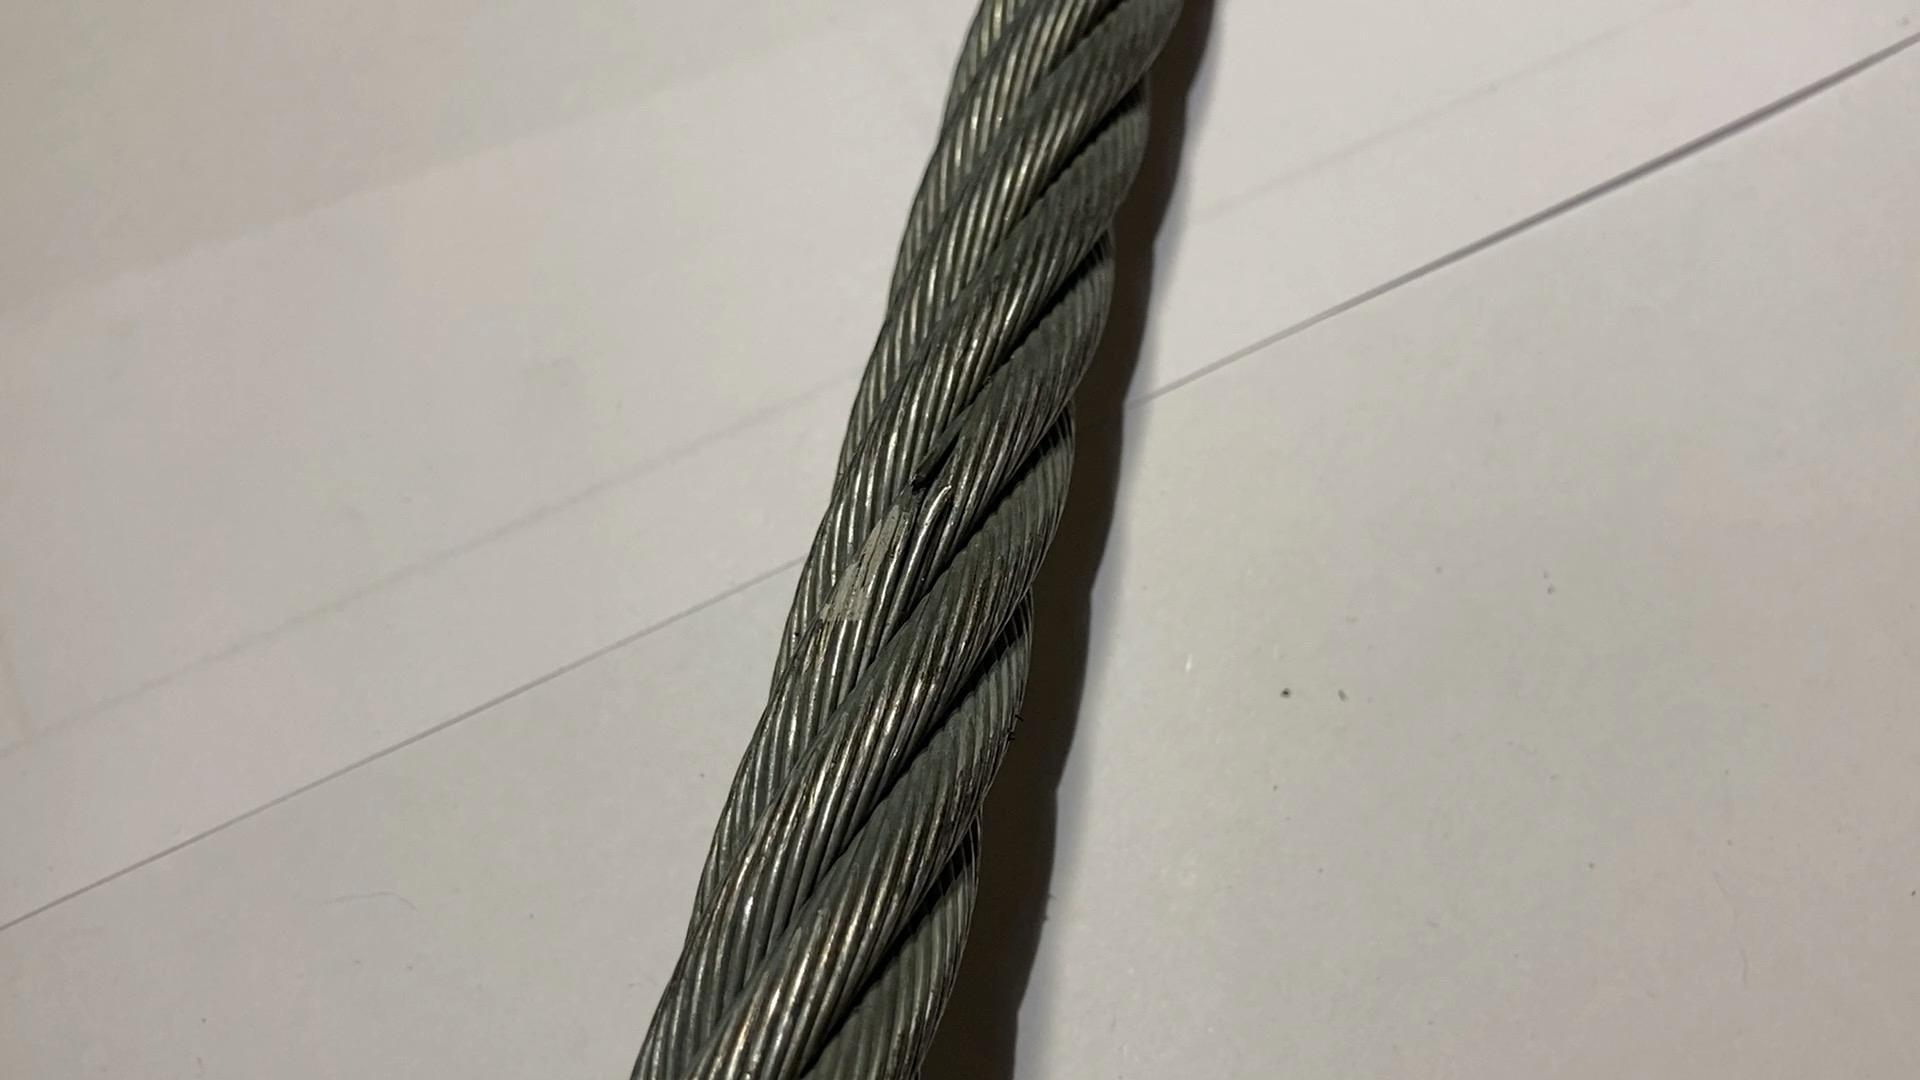break: (905, 448, 963, 525)
